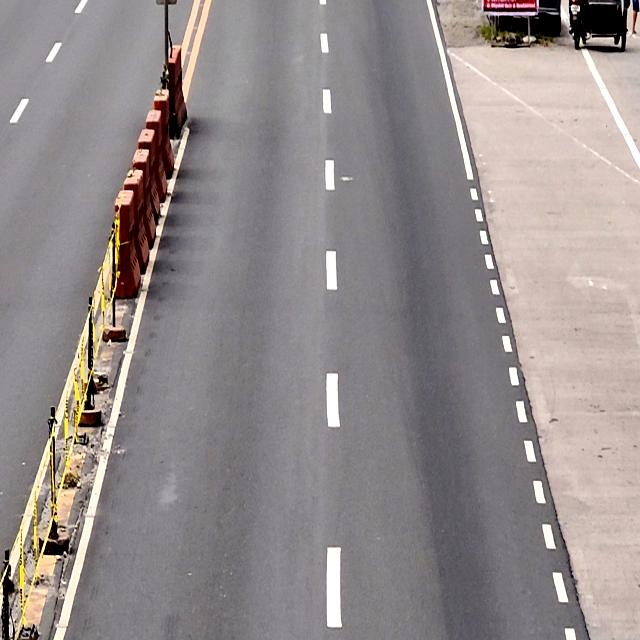License-Plate: (569, 4, 580, 15)
Tricycle: (568, 0, 627, 54)
